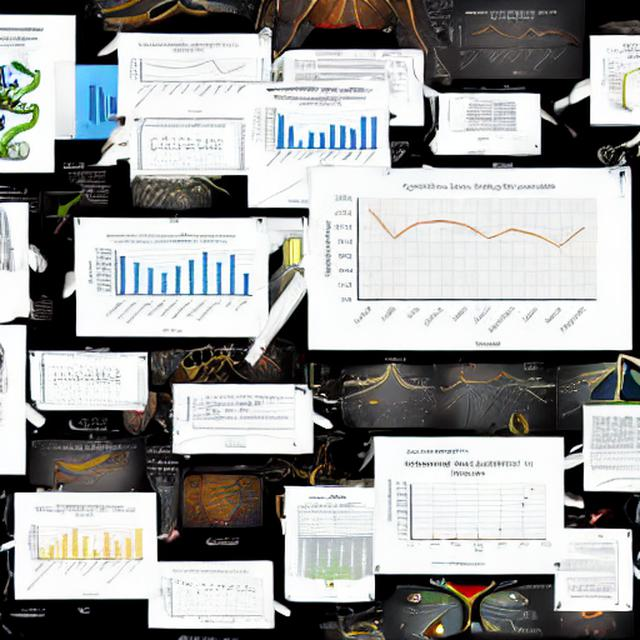Graph: (316, 177, 601, 348), (383, 456, 555, 560), (85, 231, 256, 333), (21, 508, 147, 597), (125, 40, 252, 116), (262, 95, 381, 167), (450, 7, 568, 77), (158, 569, 266, 626)
